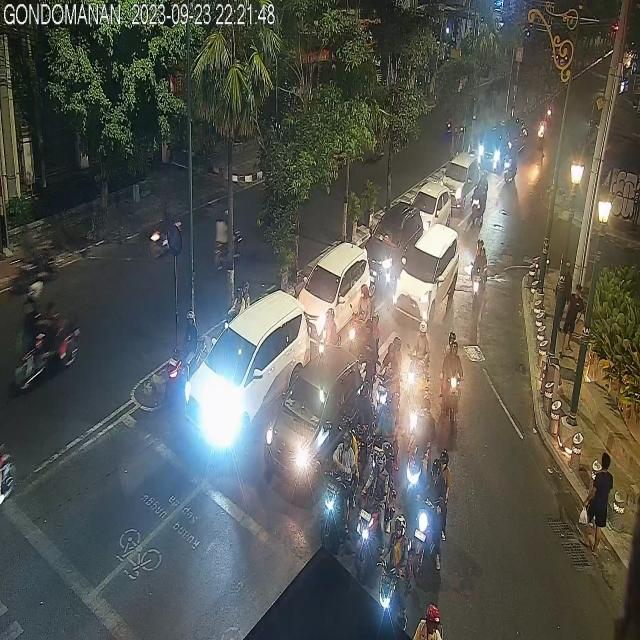car: (185, 292, 312, 451), (268, 352, 360, 488), (396, 229, 464, 328), (298, 244, 368, 338), (364, 202, 424, 284), (442, 152, 484, 215), (414, 183, 451, 242)
motorcycle: (7, 288, 80, 386), (412, 454, 449, 581), (165, 314, 209, 416), (320, 429, 352, 555), (358, 448, 391, 563), (378, 514, 411, 624), (407, 392, 432, 491), (379, 338, 403, 423), (441, 333, 461, 430), (215, 206, 242, 272), (152, 200, 180, 250), (469, 240, 487, 307), (473, 167, 487, 232)
